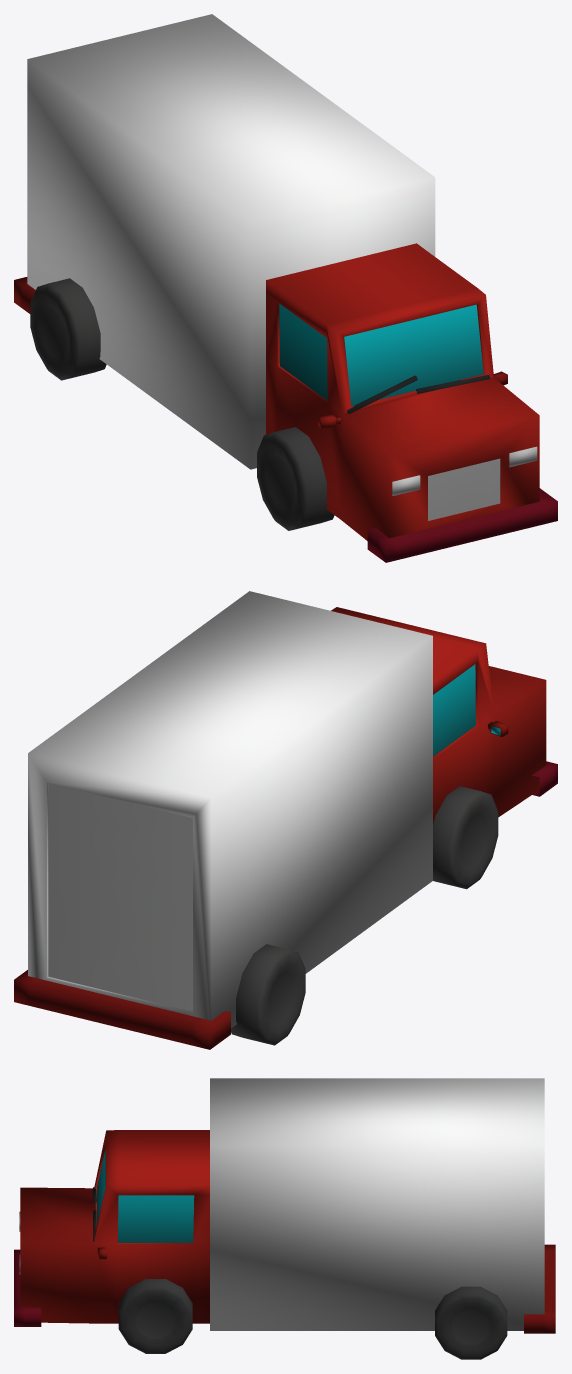
File: SimpleTruck.fbx
3 renders of one model, top to bottom at view 1: azimuth 30°, elevation 25°; view 2: azimuth 150°, elevation 25°; view 3: azimuth 270°, elevation 25°, orthographic. The views are drawn at different scales.
Parts seen in each view (by area): view 1: SimpleTruck; view 2: SimpleTruck; view 3: SimpleTruck.
Part boxes in pixels (bbox=[...]): SimpleTruck: bbox=[14, 14, 557, 562]; SimpleTruck: bbox=[14, 591, 557, 1049]; SimpleTruck: bbox=[14, 1078, 555, 1359].
Size of the model in its own units: 188 by 214 by 510.
1 material, 1 textured.
